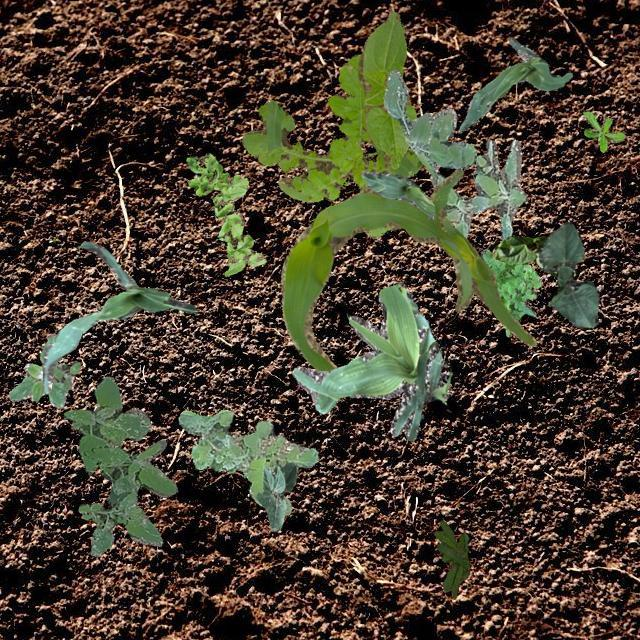crop: (280, 168, 536, 370), (290, 282, 450, 439), (42, 240, 196, 392), (458, 36, 572, 132), (358, 9, 416, 168), (538, 220, 598, 328), (361, 170, 434, 218), (254, 462, 296, 530), (492, 234, 556, 276)
weed: (240, 54, 422, 238), (62, 376, 176, 556), (178, 408, 318, 514), (382, 68, 476, 176), (428, 138, 526, 240), (186, 152, 266, 276), (7, 332, 80, 407), (480, 248, 540, 336), (432, 520, 468, 598), (582, 110, 624, 152)
